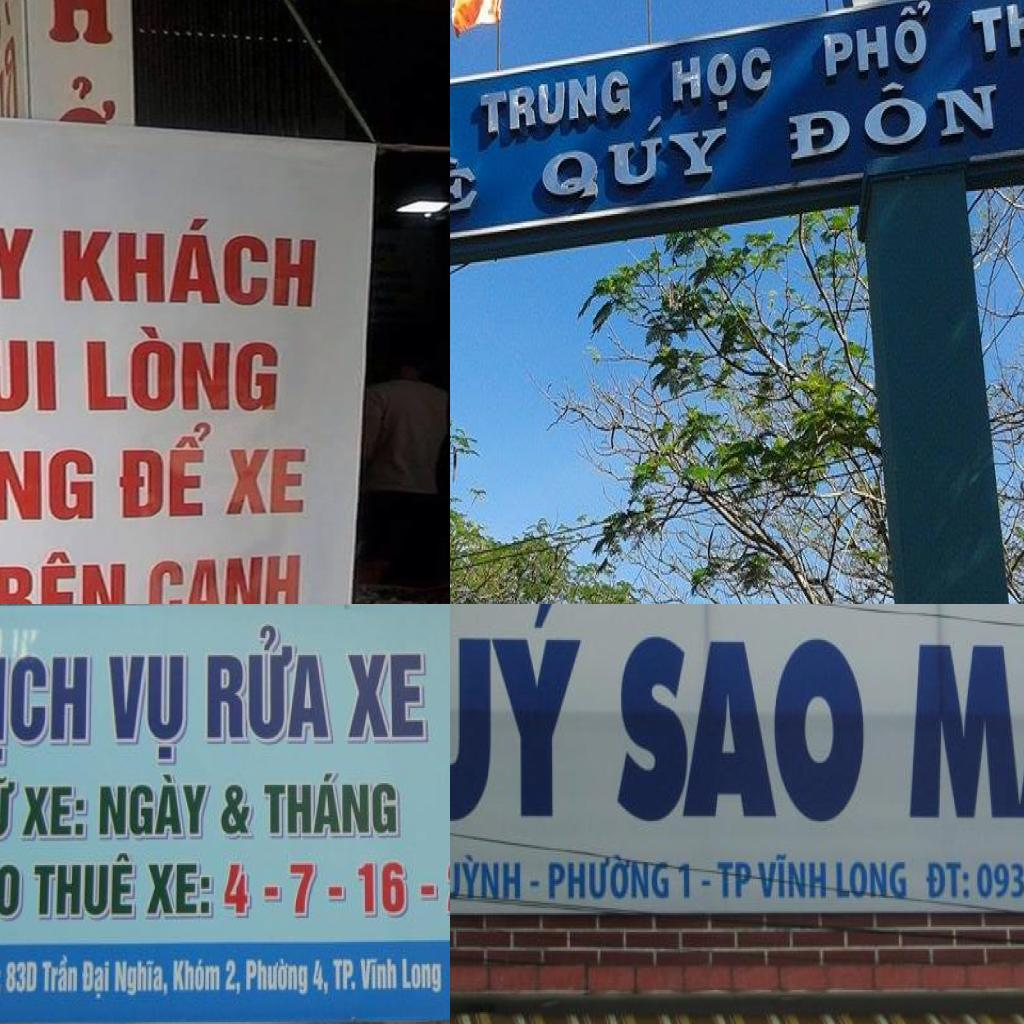text: (602, 630, 878, 829), (450, 604, 587, 822), (62, 218, 320, 309), (906, 635, 1024, 822), (540, 107, 734, 209), (86, 325, 282, 413), (206, 624, 334, 746), (474, 66, 634, 144), (0, 655, 92, 764), (818, 0, 935, 84), (119, 421, 215, 519), (664, 38, 776, 122), (264, 773, 401, 839), (108, 653, 188, 766), (0, 434, 94, 522), (98, 771, 216, 841), (145, 553, 303, 604), (346, 652, 429, 744), (32, 852, 137, 922), (0, 549, 129, 604), (543, 852, 674, 904), (225, 447, 307, 516), (0, 338, 58, 411), (144, 862, 214, 920), (450, 850, 524, 904), (20, 785, 88, 841), (0, 208, 38, 308), (754, 852, 830, 901), (966, 0, 1024, 64), (832, 857, 910, 901), (358, 860, 408, 918), (919, 860, 972, 905), (244, 959, 308, 996), (114, 960, 171, 1000), (450, 150, 477, 232), (219, 782, 254, 840), (173, 957, 222, 998), (219, 862, 253, 920), (714, 860, 756, 903), (290, 863, 318, 920), (401, 957, 443, 995), (41, 955, 80, 995), (0, 865, 25, 923), (360, 958, 400, 992), (81, 957, 111, 1002), (0, 774, 19, 842), (5, 961, 39, 993), (332, 959, 357, 993), (675, 860, 694, 903), (224, 957, 244, 997), (263, 886, 283, 904), (327, 884, 347, 902), (419, 884, 438, 901)
